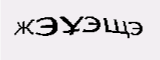Ж: (66, 5, 100, 32)
З: (47, 6, 66, 29)
У: (97, 12, 116, 32)
Х: (30, 10, 54, 34)
Я: (112, 13, 132, 36)
